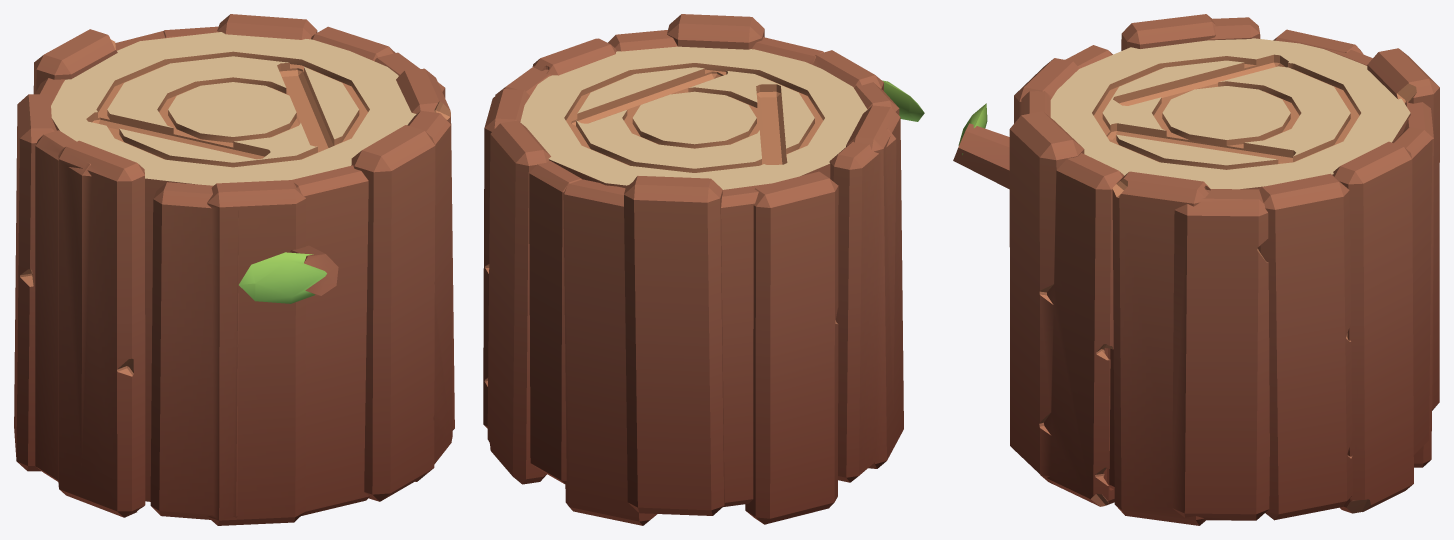
Rendered from chopping_block.glb.
The picture shows the model from 3 angles, left to right: view 1: azimuth 30°, elevation 25°; view 2: azimuth 150°, elevation 25°; view 3: azimuth 270°, elevation 25°; orthographic projection. The views are drawn at different scales.
Visible parts, largest first — view 1: chopping_block; view 2: chopping_block; view 3: chopping_block.
Boxes of the visible parts, bbox=[...] form: chopping_block: bbox=[14, 14, 454, 525]; chopping_block: bbox=[483, 14, 924, 525]; chopping_block: bbox=[953, 14, 1439, 525].
Bounding box in the file's own units: 1.02 × 0.9281 × 1.14.
1 material, 1 textured.
